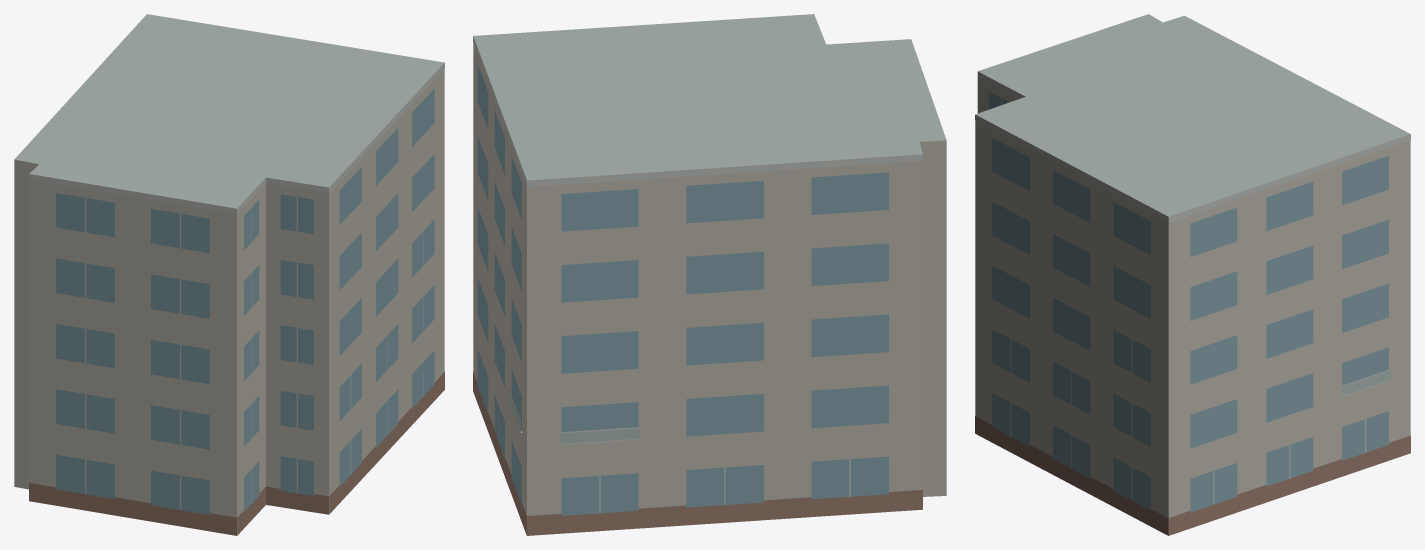
Rendered from survey-upis-32874912.glb.
3 renders of one model, left to right at view 1: azimuth 30°, elevation 25°; view 2: azimuth 150°, elevation 25°; view 3: azimuth 270°, elevation 25°, orthographic. The views are drawn at different scales.
Visible parts, largest first — view 1: survey-upis-32874912.tmp; view 2: survey-upis-32874912.tmp; view 3: survey-upis-32874912.tmp.
Boxes of the visible parts, box(x1,y1,x2,y2) form: survey-upis-32874912.tmp: box(14, 14, 444, 535); survey-upis-32874912.tmp: box(473, 14, 946, 535); survey-upis-32874912.tmp: box(975, 14, 1410, 535).
Size of the model in its own units: 17.85 by 13.1 by 16.21.
